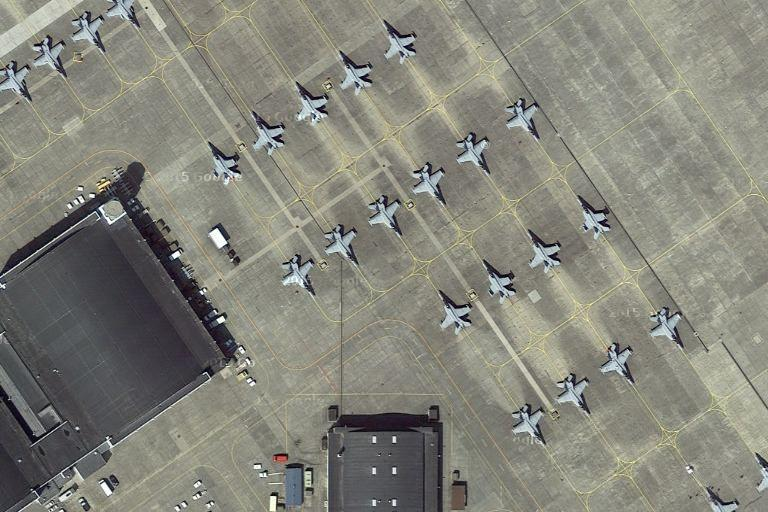F/A-18: (276, 253, 320, 309), (203, 138, 247, 192), (319, 222, 366, 272), (408, 159, 453, 211), (645, 305, 690, 357), (332, 48, 376, 101), (550, 371, 595, 422), (246, 106, 289, 159), (453, 129, 497, 180), (434, 288, 478, 339), (290, 78, 333, 130), (501, 97, 547, 145), (522, 227, 566, 277), (66, 10, 112, 57), (363, 195, 408, 242), (380, 18, 421, 68), (574, 193, 614, 244), (476, 258, 519, 305), (508, 402, 550, 449), (598, 342, 639, 389), (30, 34, 69, 81), (2, 60, 32, 107), (103, 3, 147, 34)
